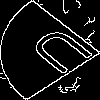U: (25, 25, 100, 83)
